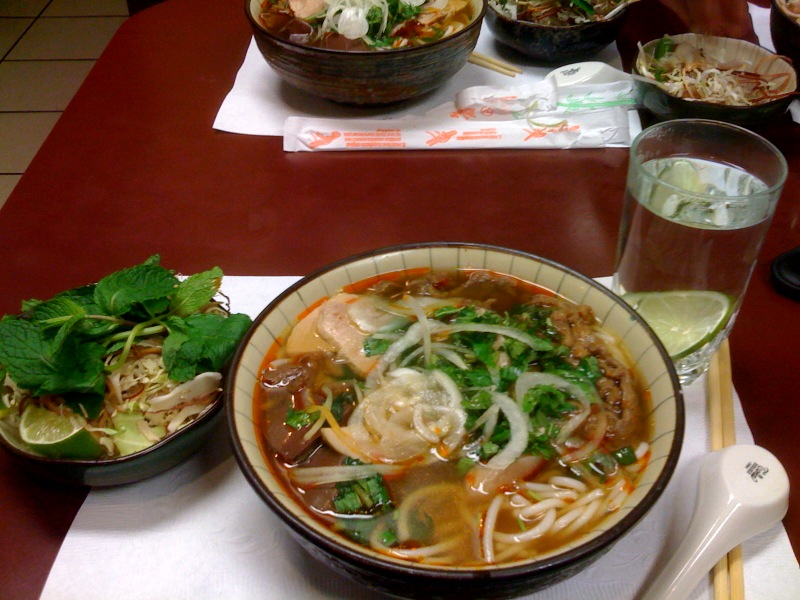onion: (342, 355, 479, 459), (420, 309, 525, 398)
